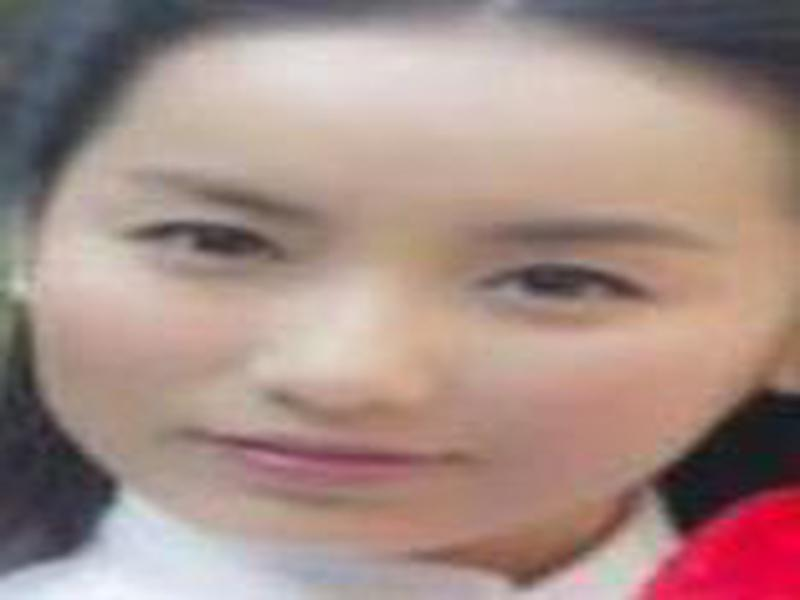without_mask: (36, 29, 778, 559)
